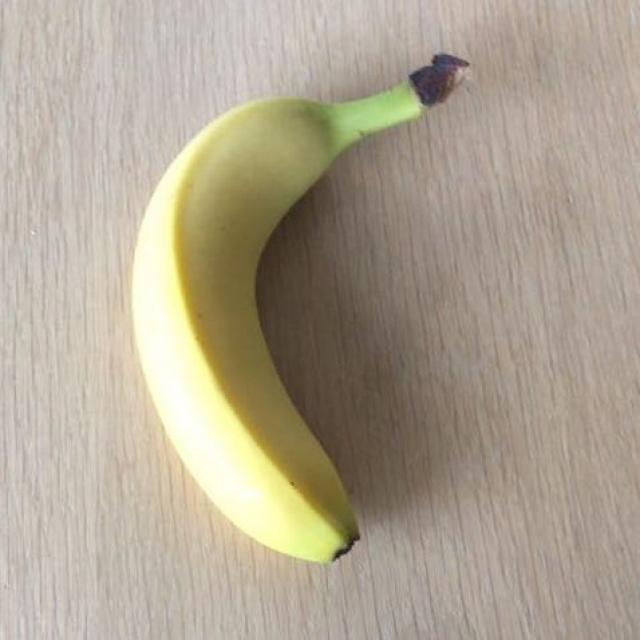banana: (141, 64, 449, 560)
